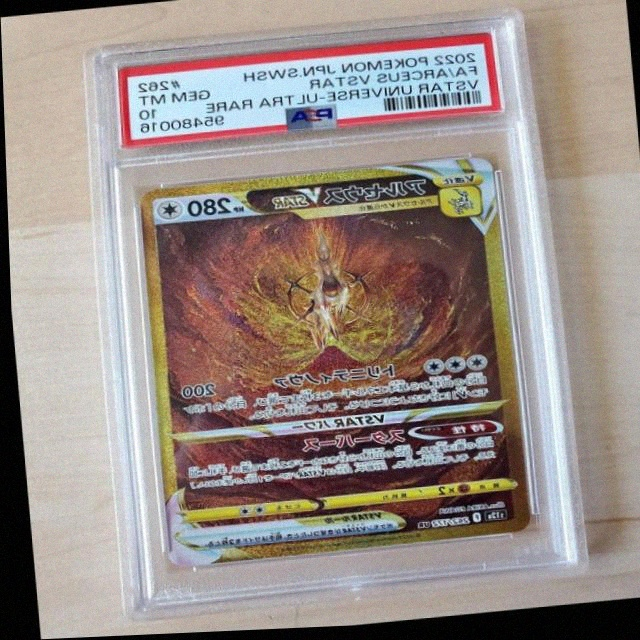card: (136, 162, 526, 568)
